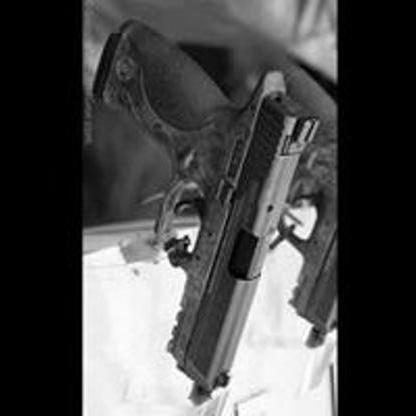weapon: (91, 18, 321, 405)
